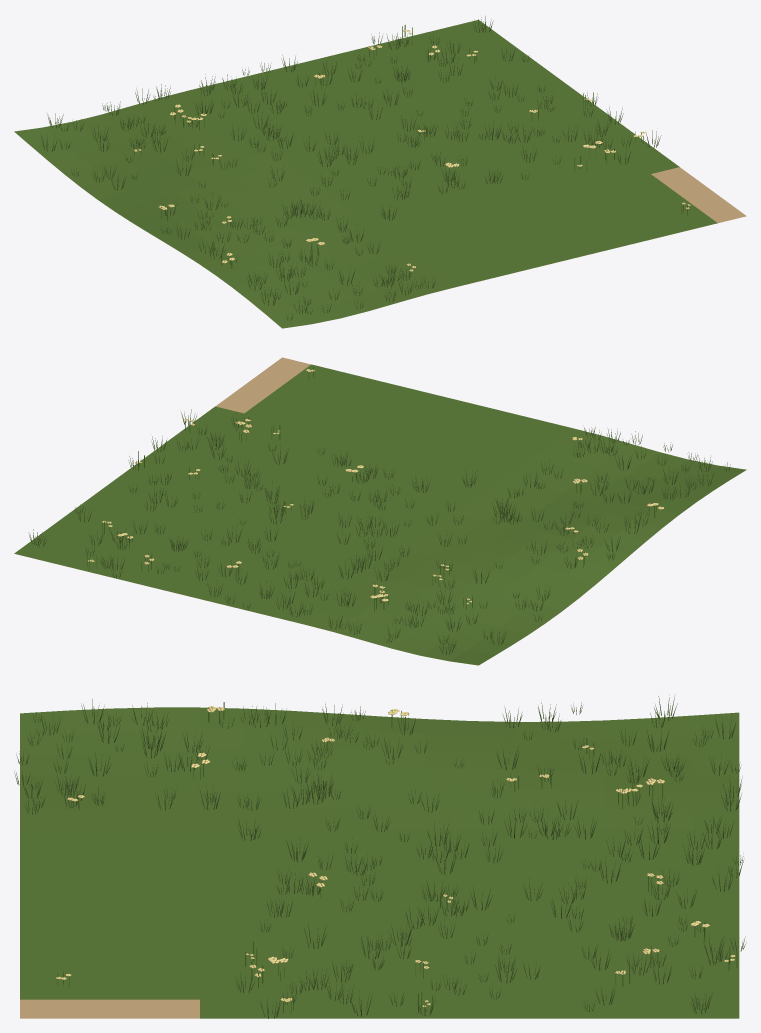
Rendered from terrain-0-0.glb.
3 renders of one model, top to bottom at view 1: azimuth 30°, elevation 25°; view 2: azimuth 150°, elevation 25°; view 3: azimuth 270°, elevation 25°, orthographic. The views are drawn at different scales.
Visible parts, largest first — view 1: terrain-0-0__grass, terrain-0-0__sand, terrain-0-0__leaf, terrain-0-0__petal; view 2: terrain-0-0__grass, terrain-0-0__sand, terrain-0-0__leaf, terrain-0-0__petal; view 3: terrain-0-0__grass, terrain-0-0__sand, terrain-0-0__leaf, terrain-0-0__petal.
Part boxes in pixels (x1,y1,x2,y2): terrain-0-0__grass: (14,16,717,328); terrain-0-0__sand: (18,135,746,328); terrain-0-0__leaf: (134,24,687,276); terrain-0-0__petal: (134,30,690,271); terrain-0-0__grass: (14,364,746,665); terrain-0-0__sand: (26,357,667,665); terrain-0-0__leaf: (87,366,656,612); terrain-0-0__petal: (87,369,663,604); terrain-0-0__grass: (14,694,745,1018); terrain-0-0__sand: (20,999,199,1018); terrain-0-0__leaf: (57,702,737,1013); terrain-0-0__petal: (56,706,735,1007).
Size of the model in its own units: 16.34 by 0.7521 by 16.31.
